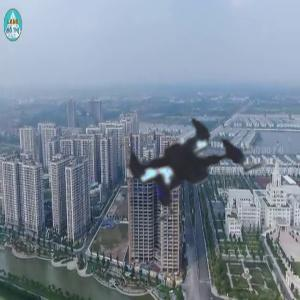drone: (75, 55, 297, 277)
